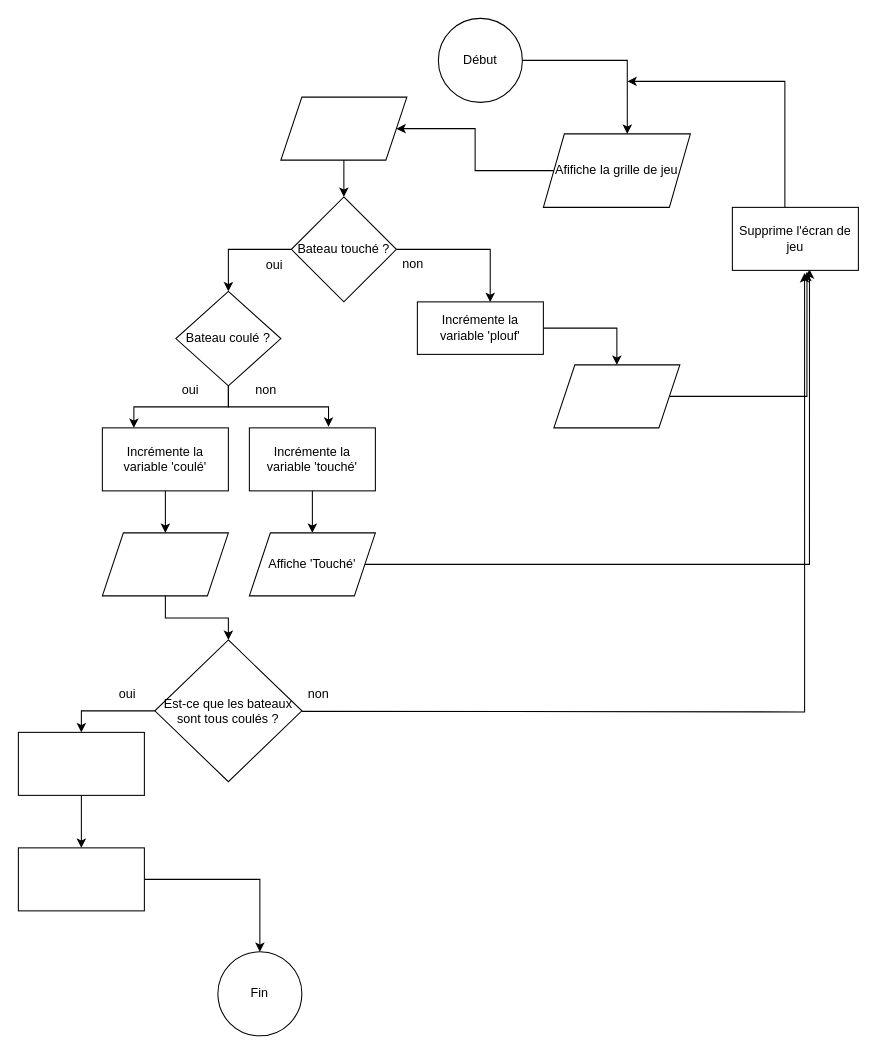
Image size: 877x1054. Some labels were removed from this diagram. The centre of each missing label's shape, as x and y in pixels:
Affiche 'Coulé': the point at 164,564
Affiche 'Plouf': the point at 616,396
Crée le score du joueur: the point at 80,763
Demande la coordonnée: the point at 343,128
Le joueur revient au menu principal: the point at 80,879
